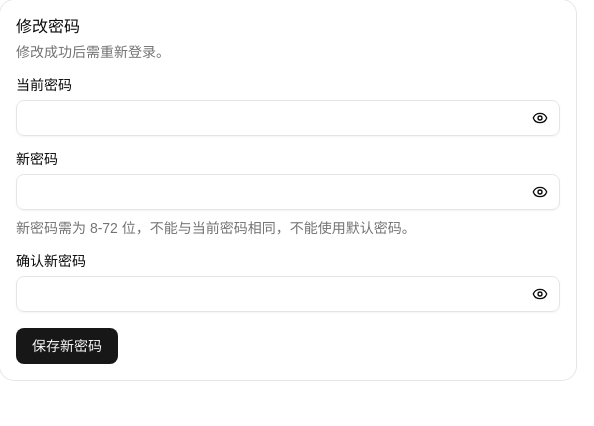
Test case: teacher PasswordChangeForm › hangs a confirm mismatch on 确认新密码
The image size is (594, 426).
Type "oldpass1" into the password field labelled "当前密码". click: x=288, y=118
box: [16, 100, 560, 136]
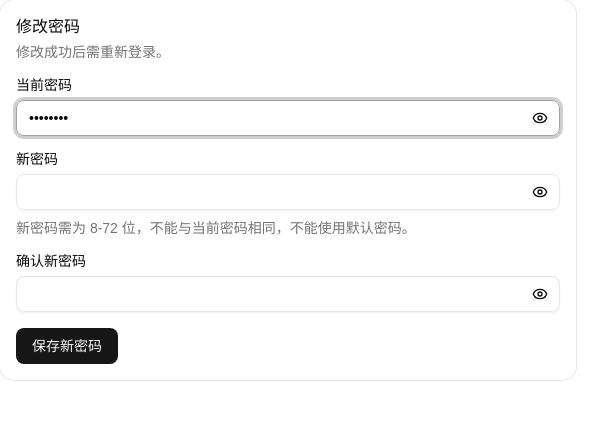
Type "newpass12" into the password field labelled "新密码". click: x=288, y=192
box: [16, 174, 560, 210]
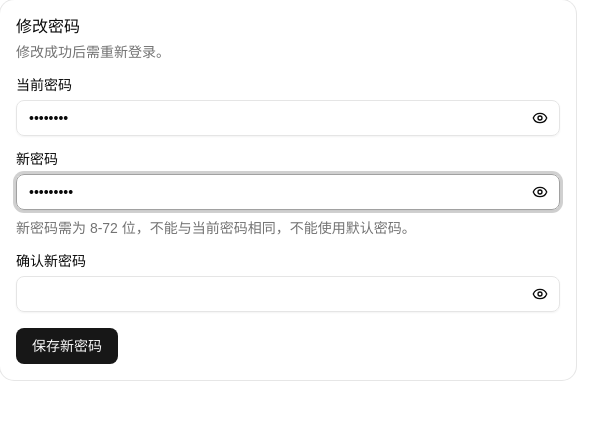
Type "newpass13" into the password field labelled "确认新密码". click: x=288, y=294
box: [16, 276, 560, 312]
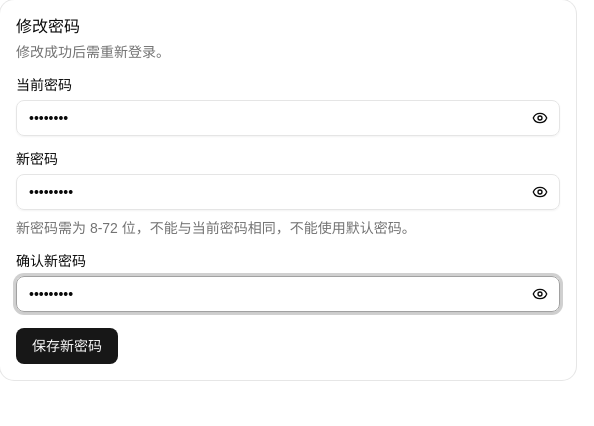
Click the button "保存新密码". click: x=67, y=346
box: [16, 328, 118, 364]
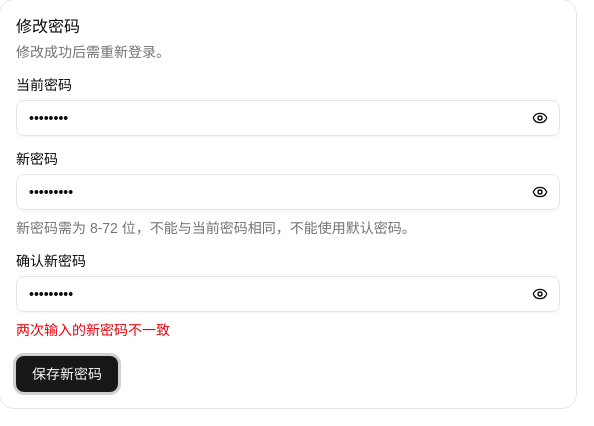
Expected: the text "两次输入的新密码不一致" is shown, [16, 322, 170, 338]
